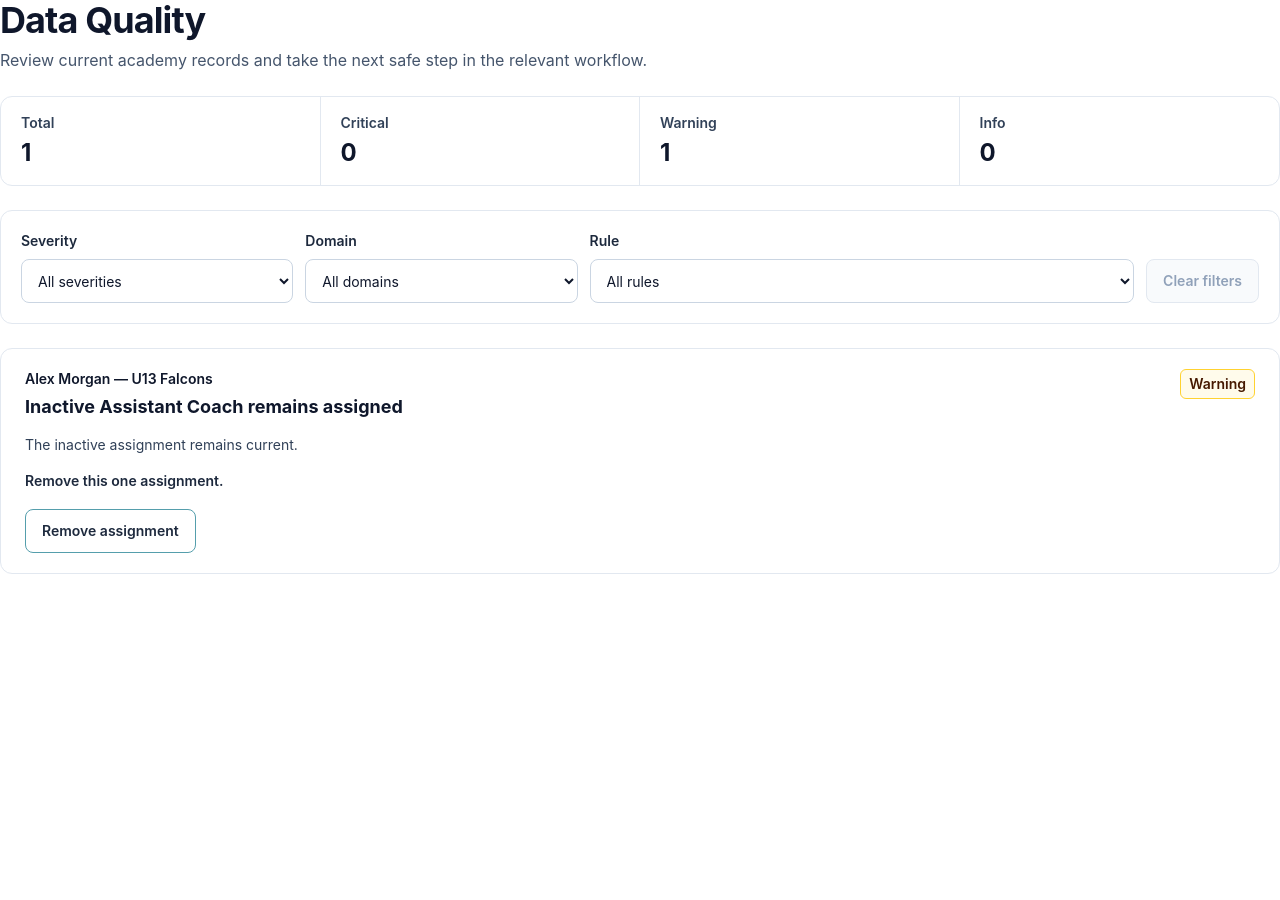
Data Quality remediation › confirms one typed action, refreshes, and announces success
The width and height of the screenshot is (1280, 900).
Click the button "Remove assignment" at (110, 531), box [25,509,196,553]
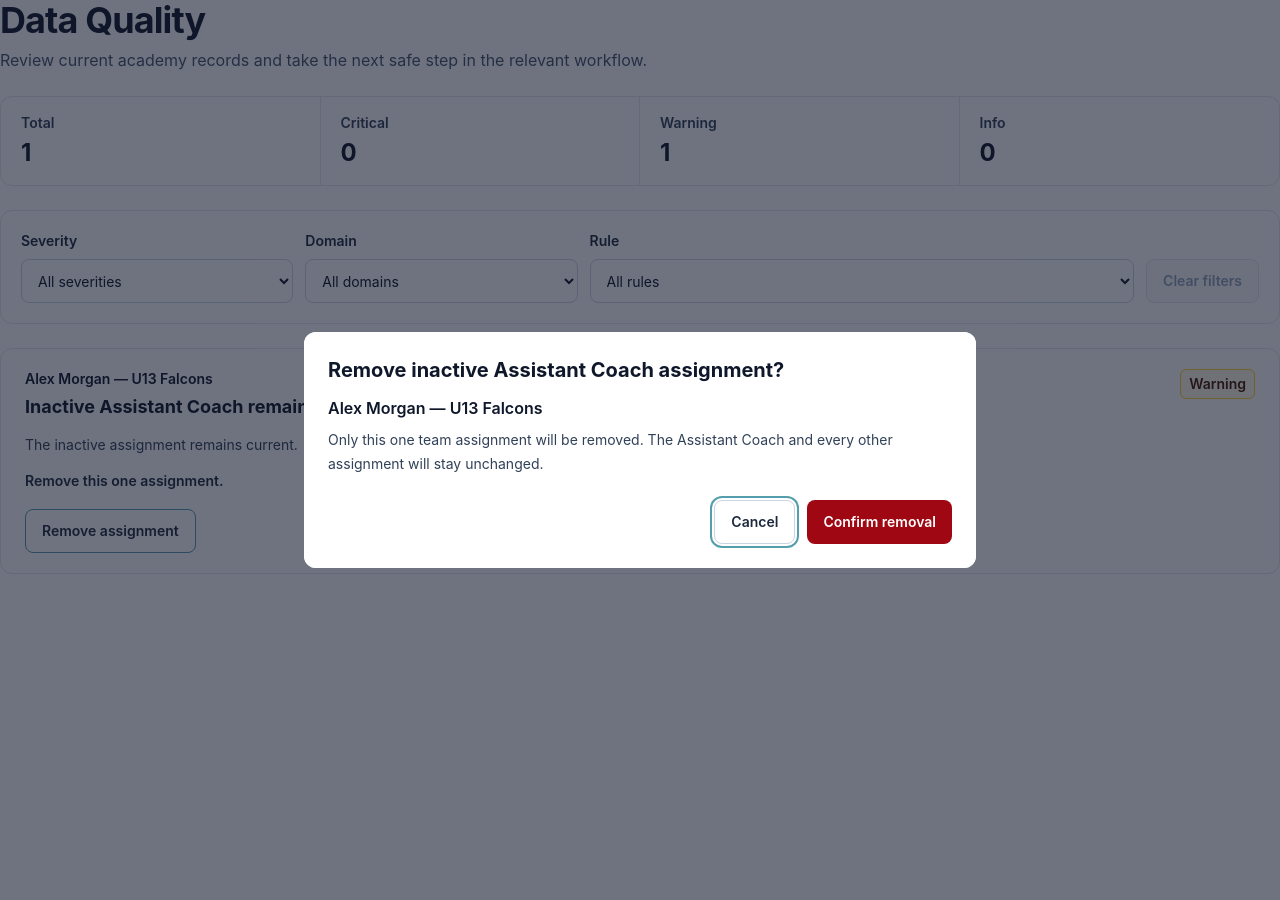
Click the button "Confirm removal" at (880, 522), box [807,500,952,544]
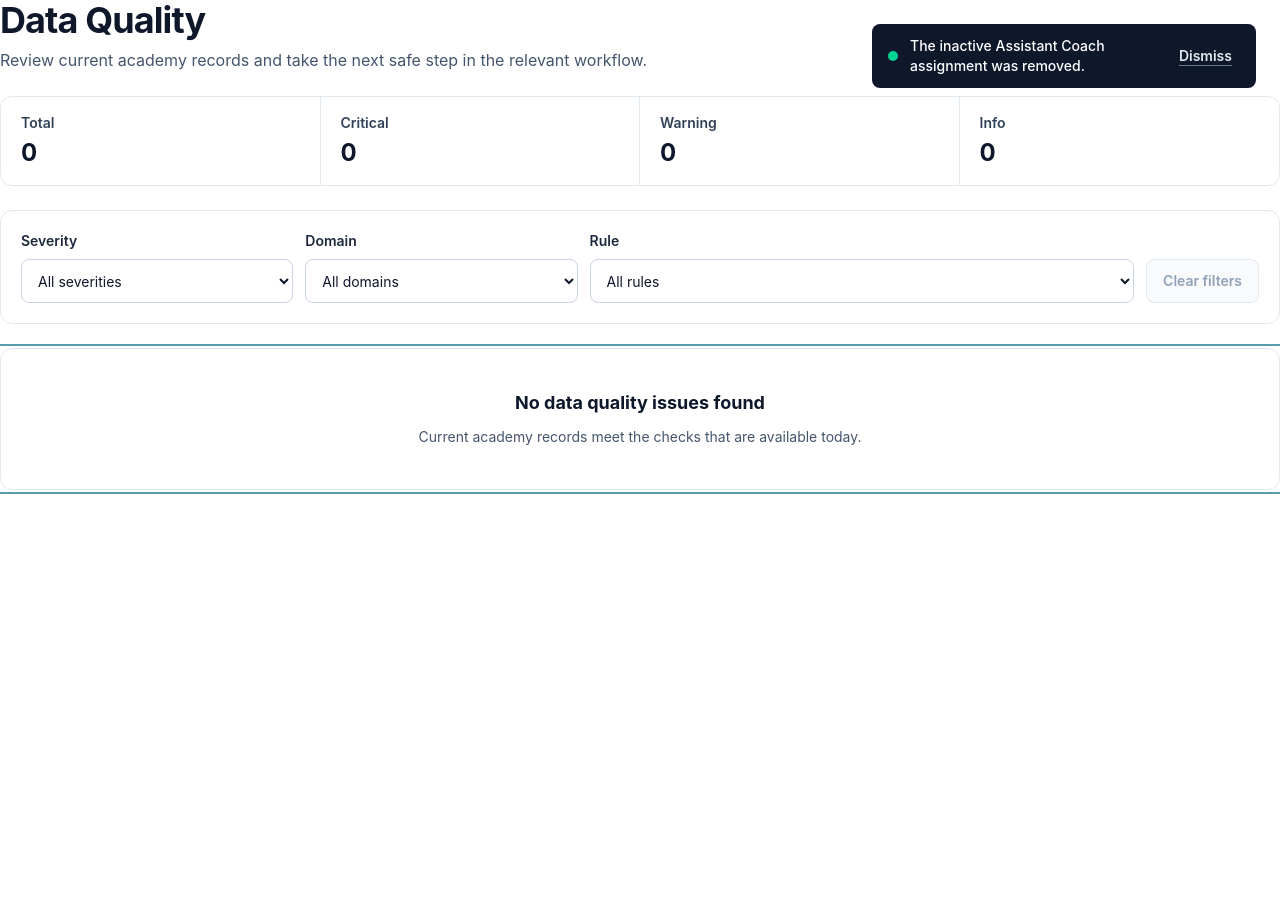
Expected: the text "The inactive Assistant Coach assignment was removed." is shown, [910,37,1105,74]
Expected: the heading "No data quality issues found" is shown, [515,392,765,413]
